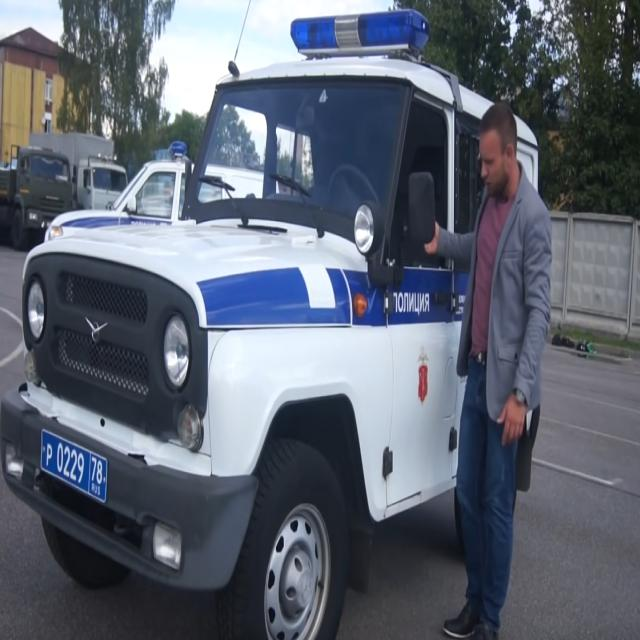non emergency car: (30, 135, 132, 230), (2, 150, 72, 255)
police car: (1, 10, 541, 640)
